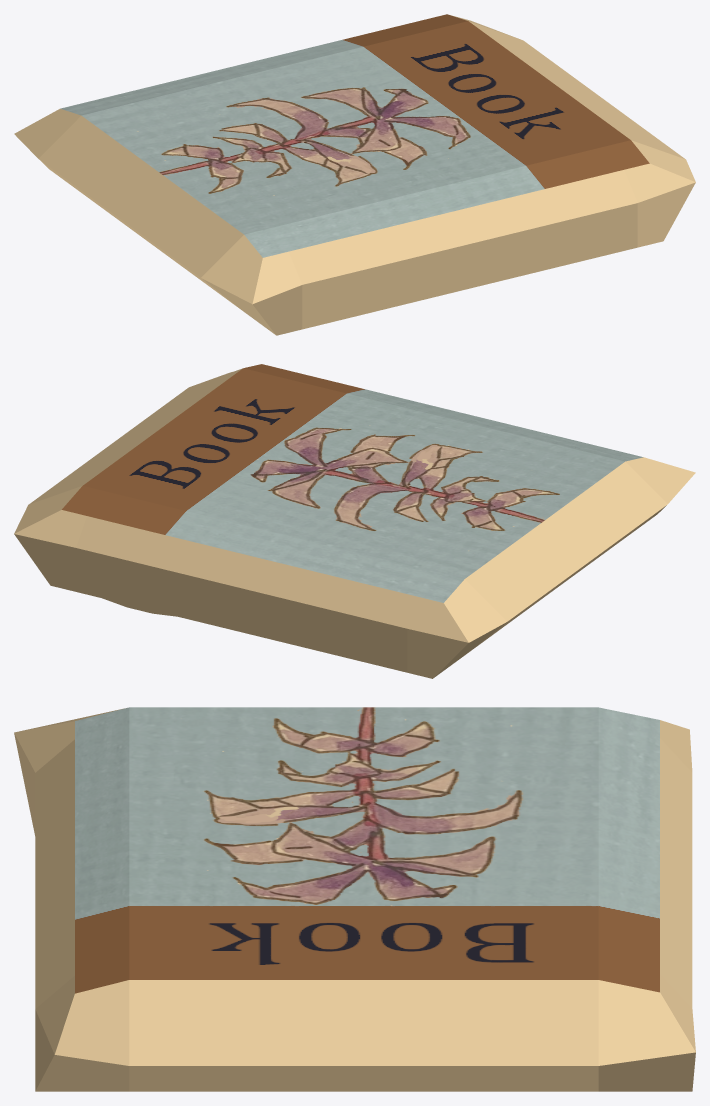
File: packet_3.glb
3 views of the same model, one above another, from view 1: azimuth 30°, elevation 25°; view 2: azimuth 150°, elevation 25°; view 3: azimuth 270°, elevation 25° (orthographic). The views are drawn at different scales.
Visible parts, largest first — view 1: Cube; view 2: Cube; view 3: Cube.
Boxes of the visible parts, x1=… form: Cube: x1=14, y1=14, x2=695, y2=335; Cube: x1=14, y1=364, x2=695, y2=678; Cube: x1=14, y1=707, x2=695, y2=1091.
Size of the model in its own units: 2.46 by 0.3898 by 2.08.
1 material, 1 textured.
